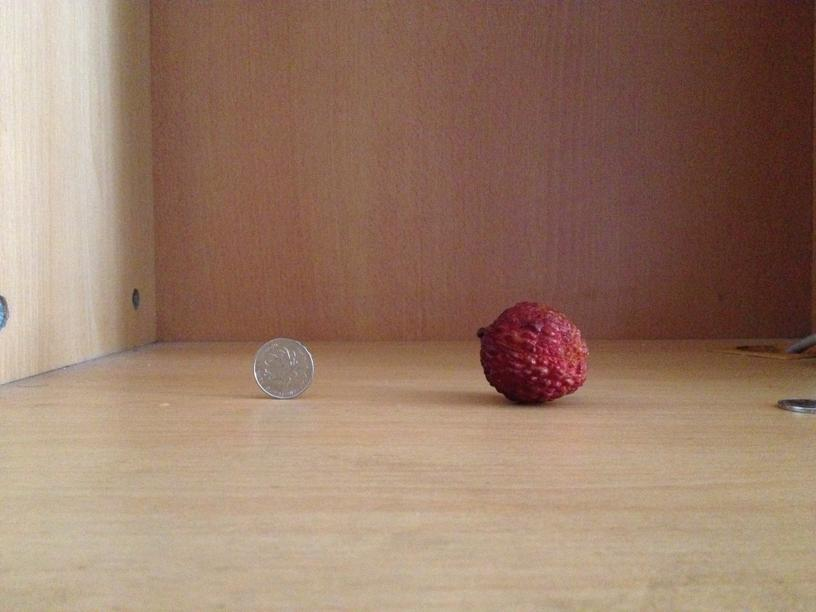coin: (252, 338, 314, 399)
litchi: (476, 302, 588, 405)
